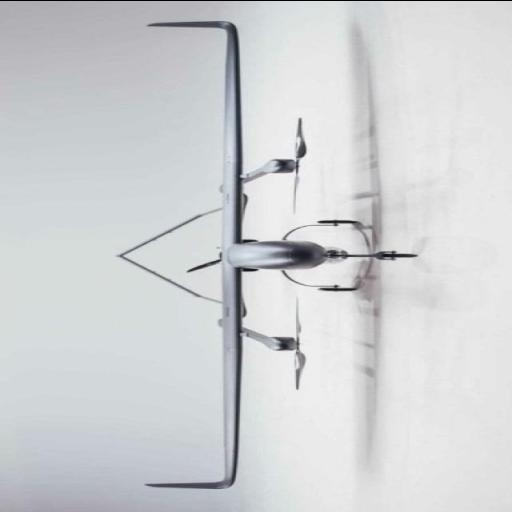uav: (114, 10, 414, 492)
